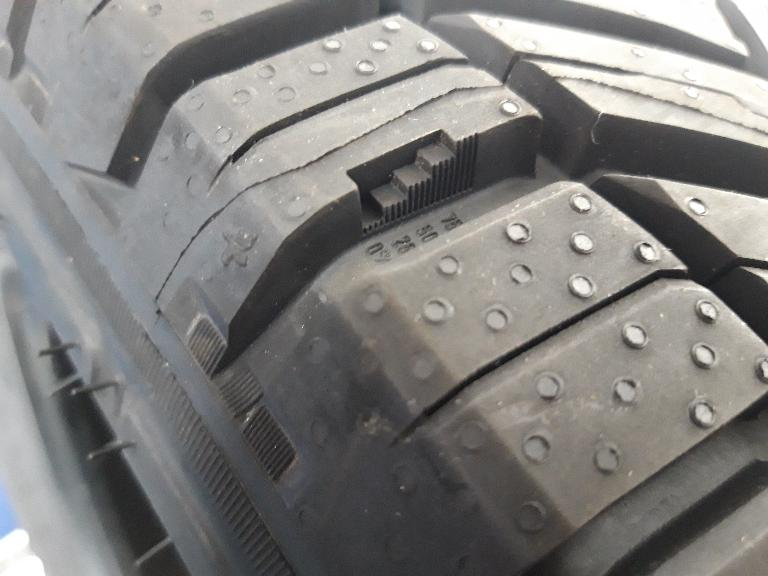temoin:100: (344, 125, 482, 238)
